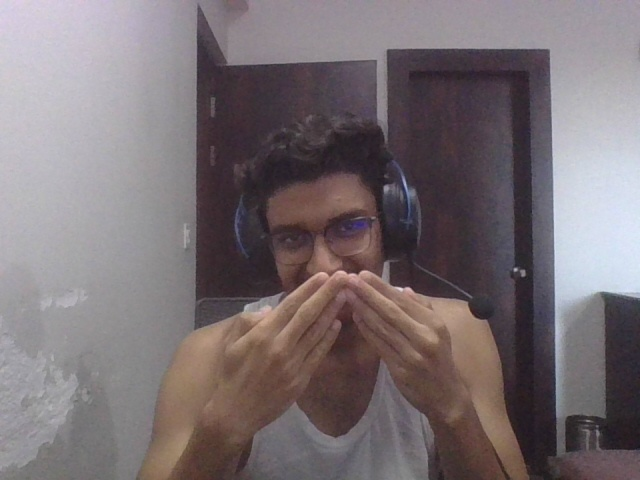Thanks: (200, 274, 488, 416)
